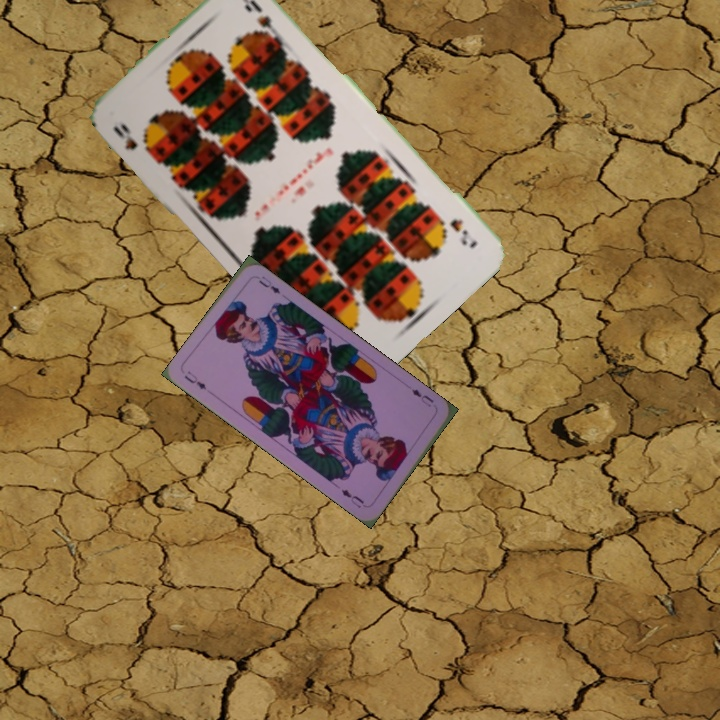EU: (180, 366, 209, 393), (407, 385, 437, 410)
S9: (109, 119, 155, 159), (446, 215, 480, 251)
